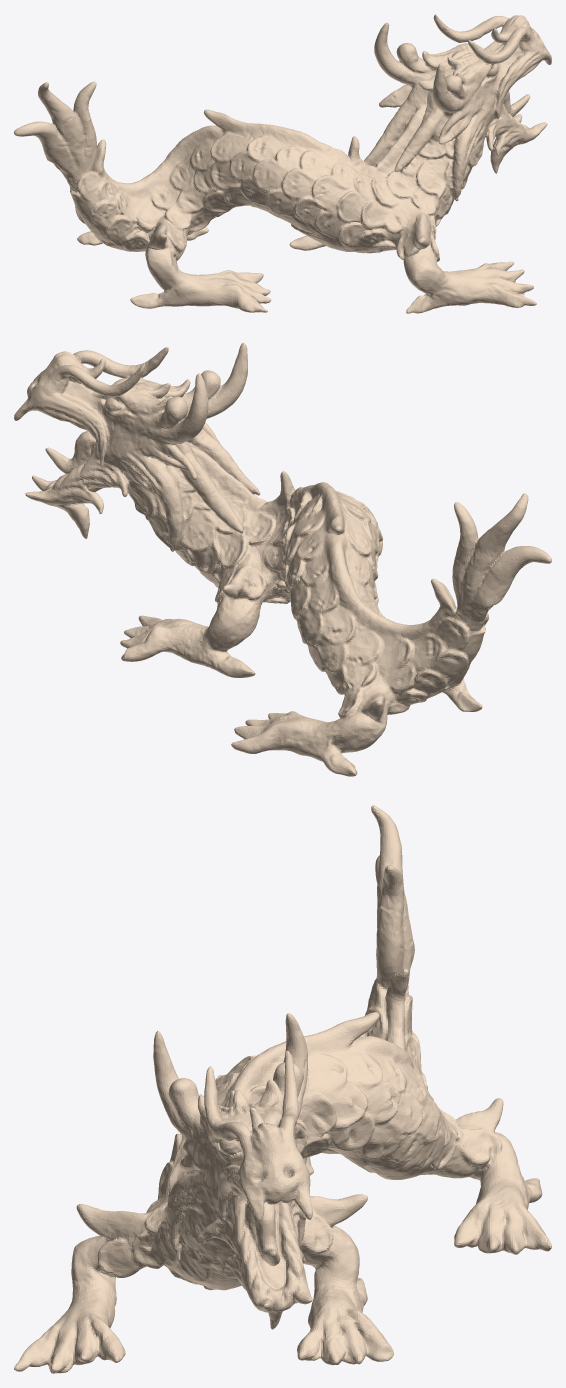
The model's file is dragon_wire.glb.
3 renders of one model, top to bottom at view 1: azimuth 30°, elevation 25°; view 2: azimuth 150°, elevation 25°; view 3: azimuth 270°, elevation 25°, orthographic. The views are drawn at different scales.
Parts seen in each view (by area): view 1: world; view 2: world; view 3: world.
Boxes of the visible parts, x1,y1,x2,y2 form: world: (14,14,551,313); world: (14,342,551,776); world: (14,805,551,1373).
Bounding box in the file's own units: 0.9999 × 0.4474 × 0.6652.
